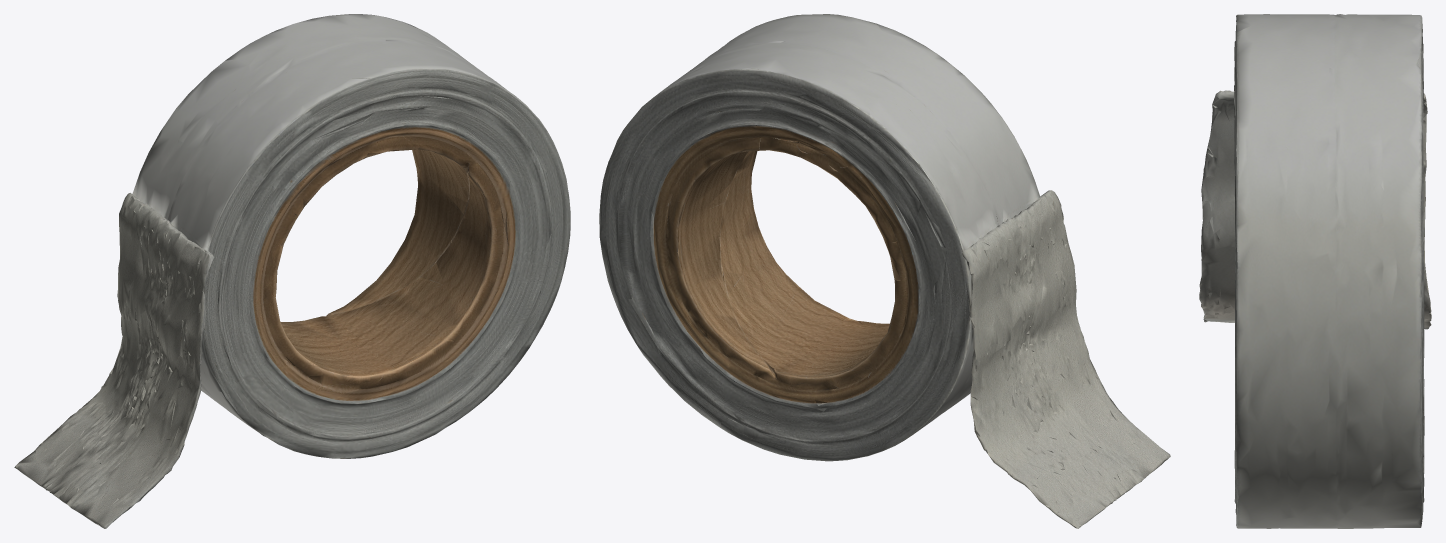
Rendered from tape.glb.
3 views of the same model, side by side, from view 1: azimuth 30°, elevation 25°; view 2: azimuth 150°, elevation 25°; view 3: azimuth 270°, elevation 25° (orthographic). The views are drawn at different scales.
Parts seen in each view (by area): view 1: mesh_node; view 2: mesh_node; view 3: mesh_node.
Boxes of the visible parts, box(x1,y1,x2,y2) form: mesh_node: box(14, 14, 570, 528); mesh_node: box(599, 14, 1170, 528); mesh_node: box(1199, 14, 1431, 528).
Size of the model in its own units: 0.1327 by 0.1 by 0.0453.
1 material, 1 textured.
